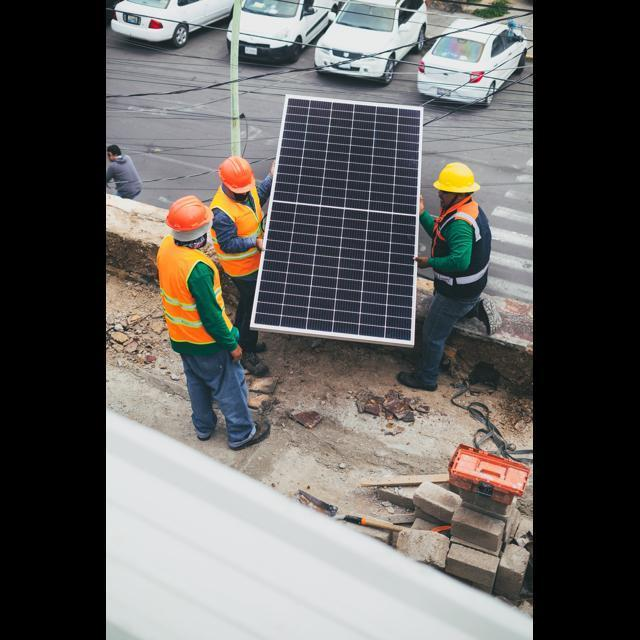Capacete: (166, 195, 212, 241), (433, 162, 479, 192), (218, 156, 254, 192)
Colete: (157, 236, 232, 344), (431, 196, 490, 298), (210, 186, 262, 237)
